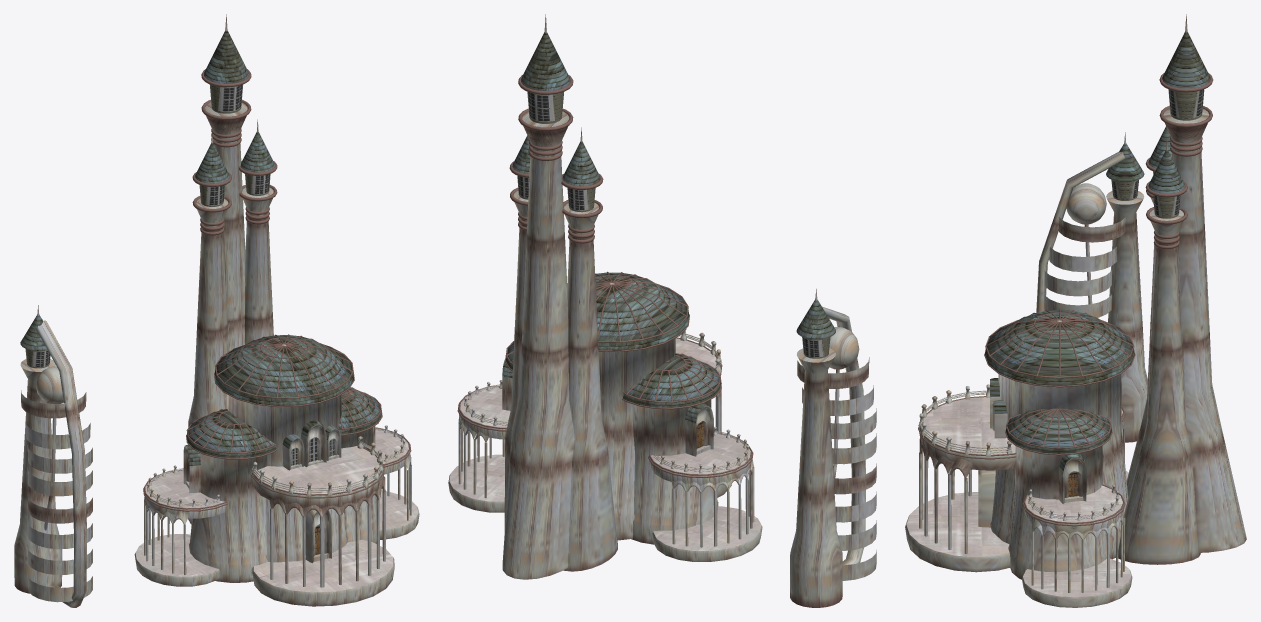
File: castle.glb
3 views of the same model, side by side, from view 1: azimuth 30°, elevation 25°; view 2: azimuth 150°, elevation 25°; view 3: azimuth 270°, elevation 25° (orthographic). The views are drawn at different scales.
Parts seen in each view (by area): view 1: castle1; view 2: castle1; view 3: castle1.
Part boxes in pixels (box(x1,y1,x2,y2)): castle1: box(14, 14, 419, 607); castle1: box(448, 14, 876, 607); castle1: box(905, 14, 1246, 607).
Size of the model in its own units: 277 by 349 by 203.
Materials: 5 (5 with a texture image).
